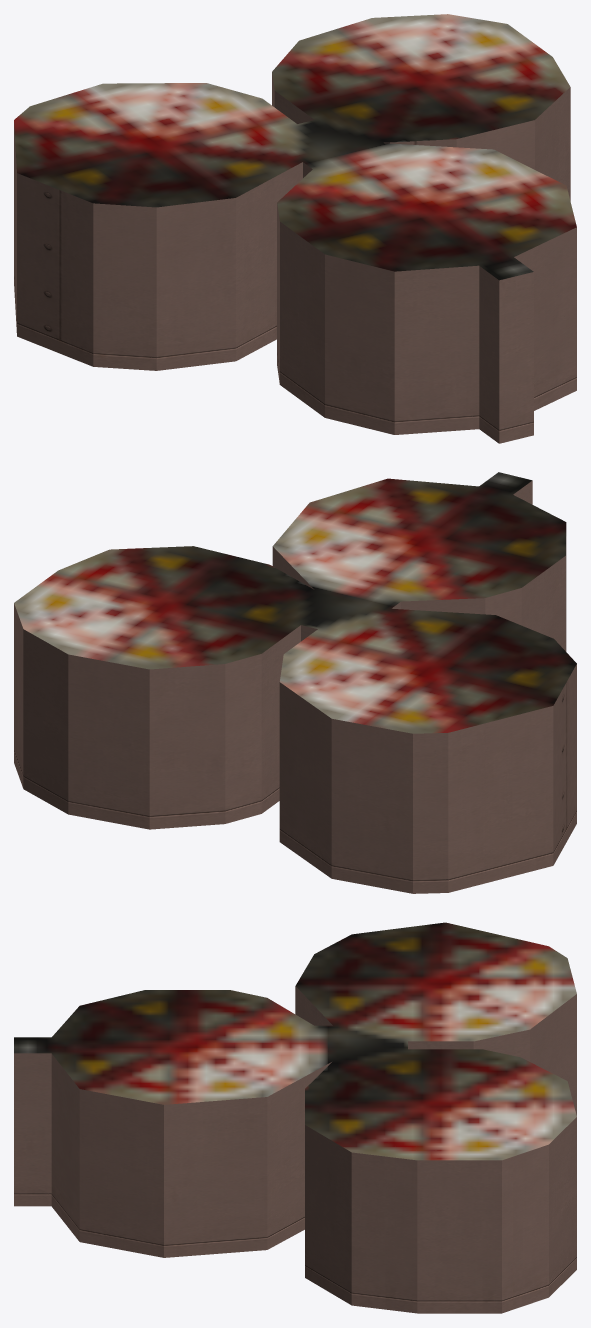
File: fuel_tank_heavy_08.glb
3 renders of one model, top to bottom at view 1: azimuth 30°, elevation 25°; view 2: azimuth 150°, elevation 25°; view 3: azimuth 270°, elevation 25°, orthographic. The views are drawn at different scales.
Parts seen in each view (by area): view 1: buildings/saxarba/fuel_tanks/fuel_tank_heavy_08; view 2: buildings/saxarba/fuel_tanks/fuel_tank_heavy_08; view 3: buildings/saxarba/fuel_tanks/fuel_tank_heavy_08.
Boxes of the visible parts, <box> form: buildings/saxarba/fuel_tanks/fuel_tank_heavy_08: <box>14,14,576,443</box>; buildings/saxarba/fuel_tanks/fuel_tank_heavy_08: <box>14,472,576,893</box>; buildings/saxarba/fuel_tanks/fuel_tank_heavy_08: <box>14,922,576,1313</box>.
Size of the model in its own units: 60 by 18 by 60.
